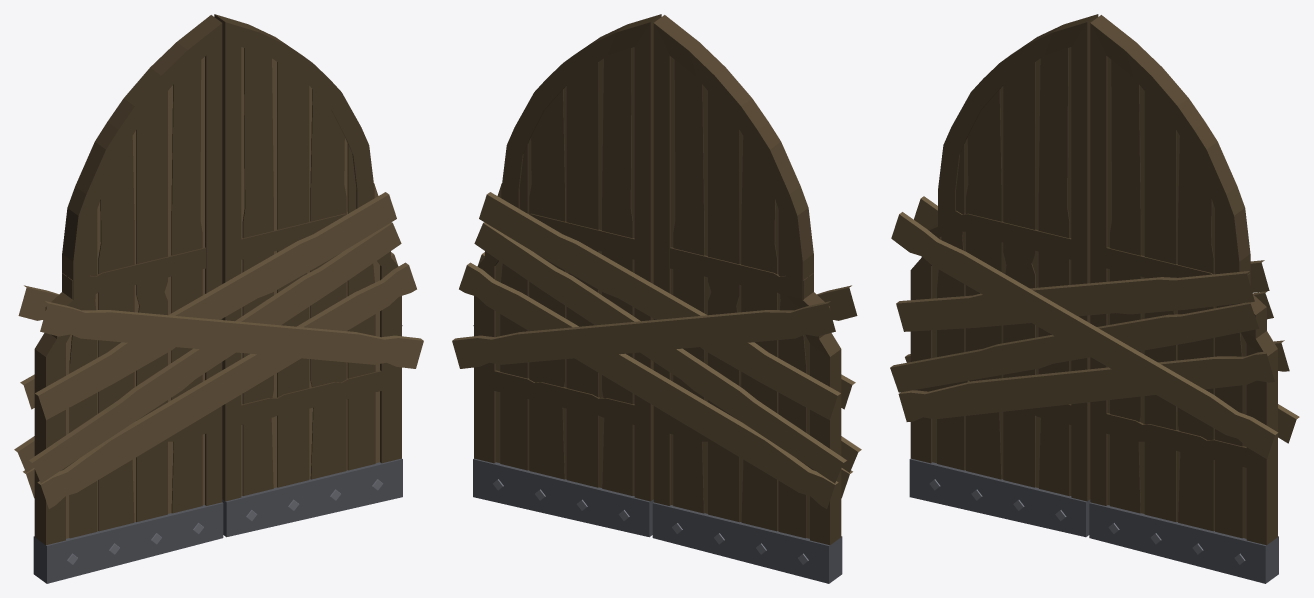
Rendered from quaternius-ultimate-modular-ruins-doors-gothicarch-covered.glb.
3 renders of one model, left to right at view 1: azimuth 30°, elevation 25°; view 2: azimuth 150°, elevation 25°; view 3: azimuth 330°, elevation 25°, orthographic.
Visible parts, largest first — view 1: Doors_GothicArch_Covered; view 2: Doors_GothicArch_Covered; view 3: Doors_GothicArch_Covered.
Part boxes in pixels (x1,y1,x2,y2): Doors_GothicArch_Covered: (14,14,423,583); Doors_GothicArch_Covered: (452,14,861,583); Doors_GothicArch_Covered: (890,14,1299,583).
Size of the model in its own units: 2.52 by 3.21 by 0.279.
